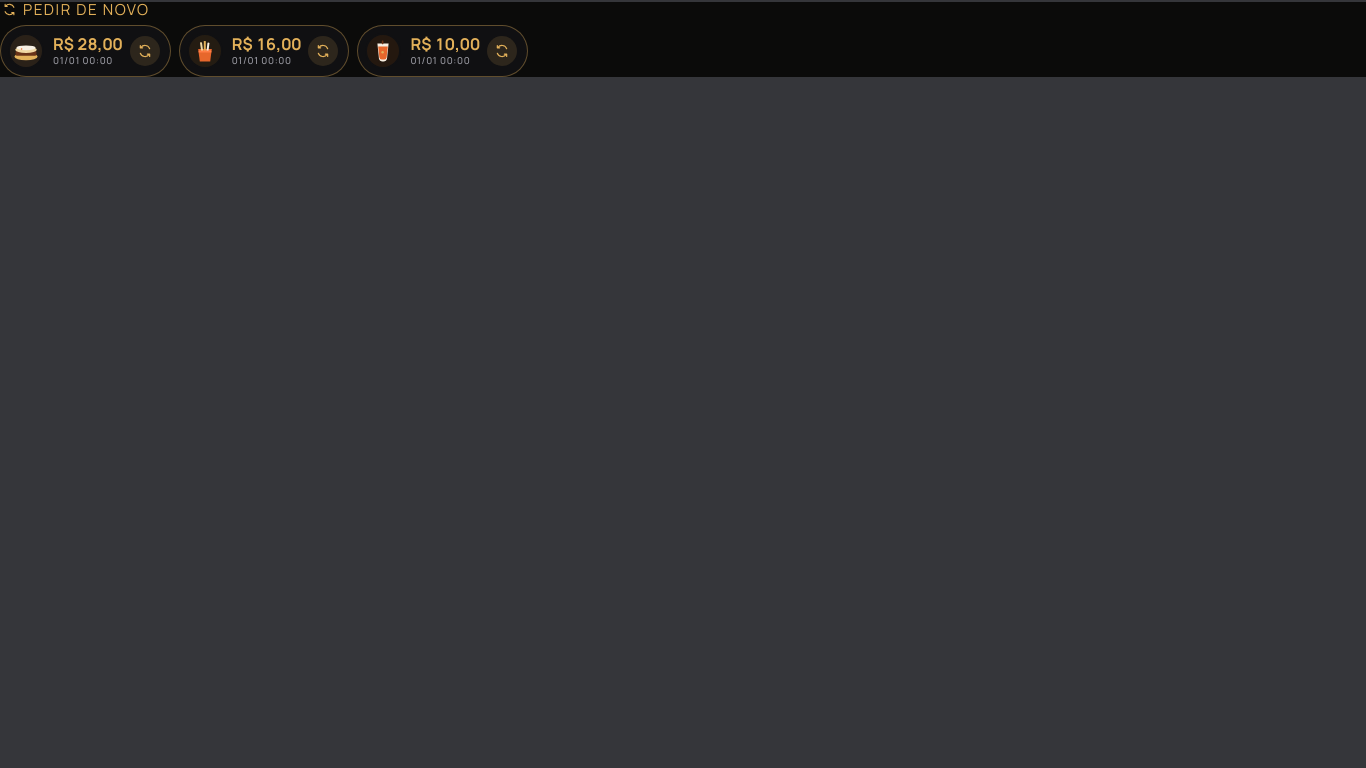
Pedir de novo autoplay › pauses while the details panel is open and restarts the wait when it closes
The image size is (1366, 768).
Later steps or results of the test are not shown.
Click the button named "Ver itens".
click(62, 51)  # box [1, 26, 123, 76]
Wait 12000 ms
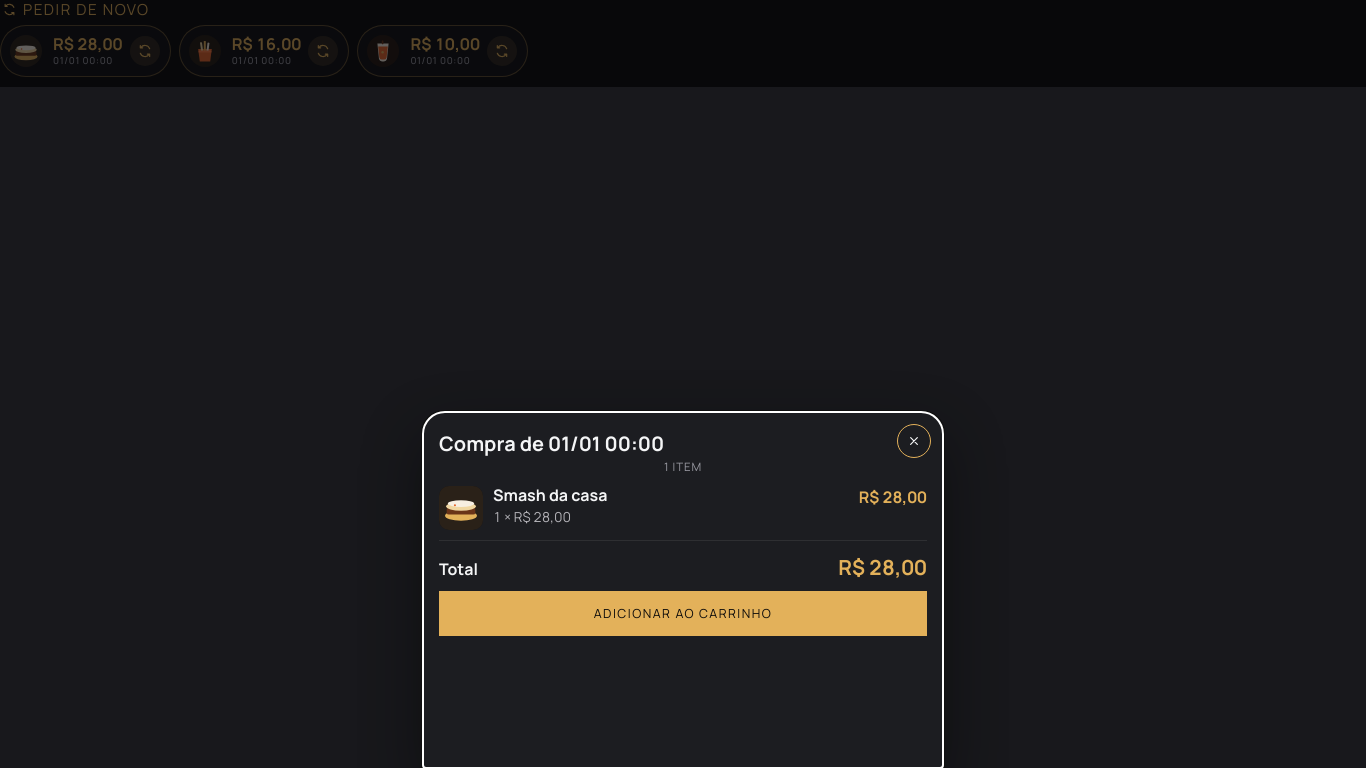
Check: the dialog "Compra" is shown, box [423, 412, 943, 767]
